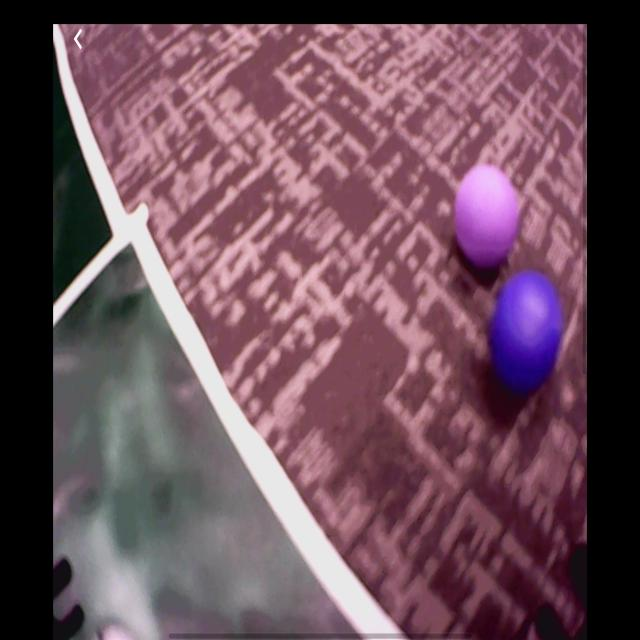ball: (494, 277, 561, 389), (454, 166, 520, 265)
